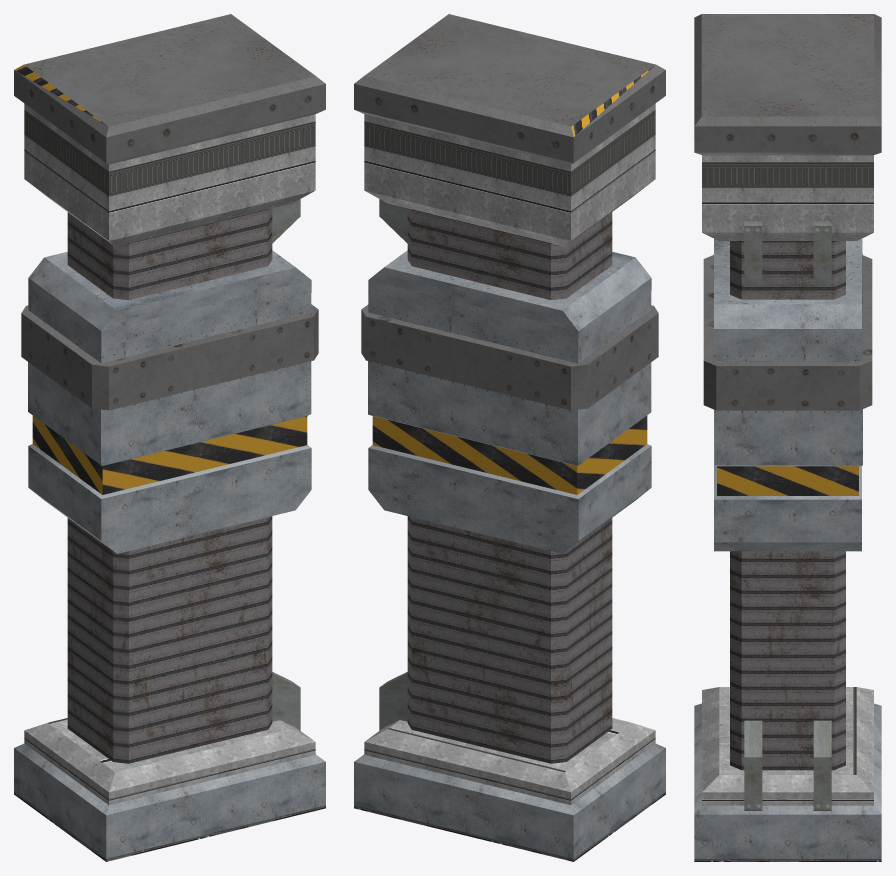
Rendered from Ob_FactorySupport2_RC.fbx.
3 renders of one model, left to right at view 1: azimuth 30°, elevation 25°; view 2: azimuth 150°, elevation 25°; view 3: azimuth 270°, elevation 25°, orthographic.
Parts seen in each view (by area): view 1: Ob_FactorySupport2_RC; view 2: Ob_FactorySupport2_RC; view 3: Ob_FactorySupport2_RC.
Part boxes in pixels (bbox=[...]): Ob_FactorySupport2_RC: bbox=[14, 14, 325, 861]; Ob_FactorySupport2_RC: bbox=[354, 14, 665, 861]; Ob_FactorySupport2_RC: bbox=[694, 14, 881, 861].
Bounding box in the file's own units: 2251 × 6940 × 1585.
